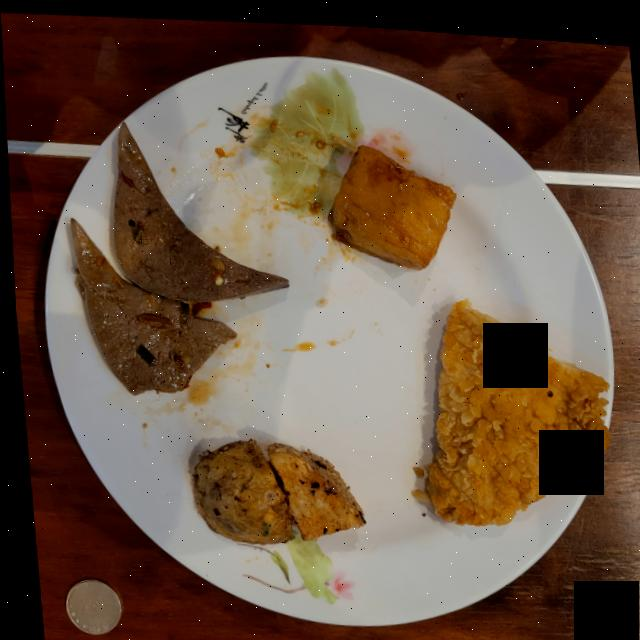coin: (59, 577, 114, 632)
creamy tofu: (325, 138, 454, 261)
fried chicken cutlet: (407, 292, 605, 518)
fried potato: (186, 435, 359, 540)
pig liver: (68, 119, 285, 392)
